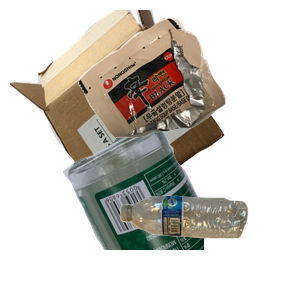cardboard: (10, 10, 227, 190)
glass: (60, 120, 300, 300)
plastic: (118, 193, 300, 300)
trash: (76, 15, 300, 145)
